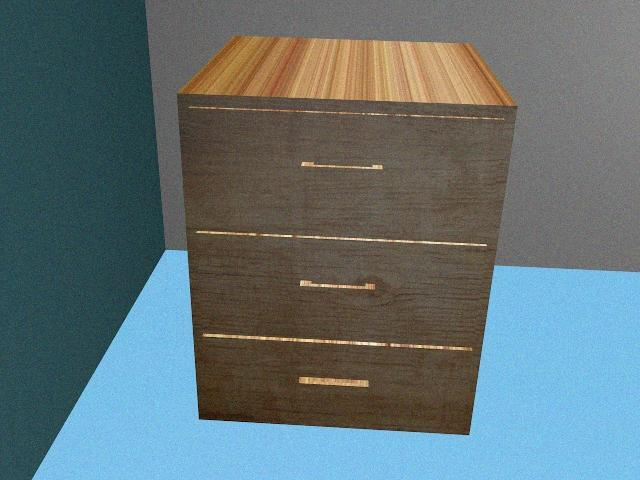cabinet_door: (191, 112, 499, 238), (198, 238, 481, 344), (203, 344, 468, 424)
handle: (294, 146, 388, 180), (291, 365, 375, 399), (293, 271, 381, 301)
